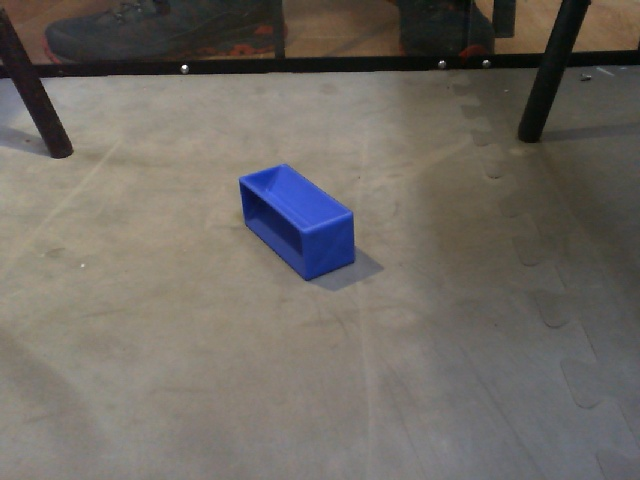BlueSample: (237, 161, 361, 284)
